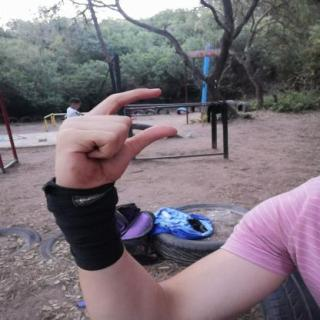DELL: (37, 81, 188, 200)
